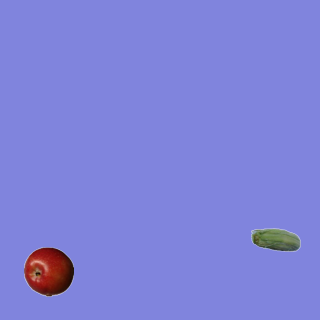Apple Braeburn: (23, 246, 73, 296)
Corn Husk: (250, 216, 300, 266)
